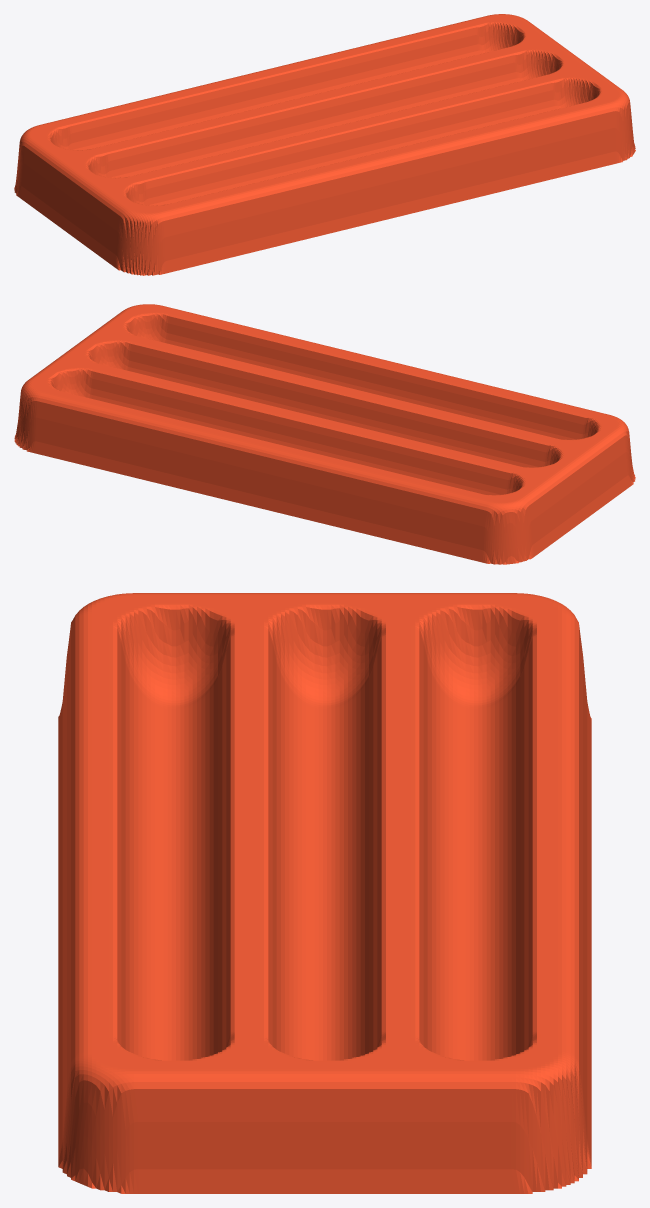
The model's file is mold.glb.
3 renders of one model, top to bottom at view 1: azimuth 30°, elevation 25°; view 2: azimuth 150°, elevation 25°; view 3: azimuth 270°, elevation 25°, orthographic. The views are drawn at different scales.
Visible parts, largest first — view 1: geometry_0; view 2: geometry_0; view 3: geometry_0.
Part boxes in pixels (x1=…): geometry_0: x1=14, y1=14, x2=635, y2=275; geometry_0: x1=14, y1=304, x2=635, y2=564; geometry_0: x1=58, y1=593, x2=591, y2=1193.
Size of the model in its own units: 0.1415 by 0.0145 by 0.0635.
